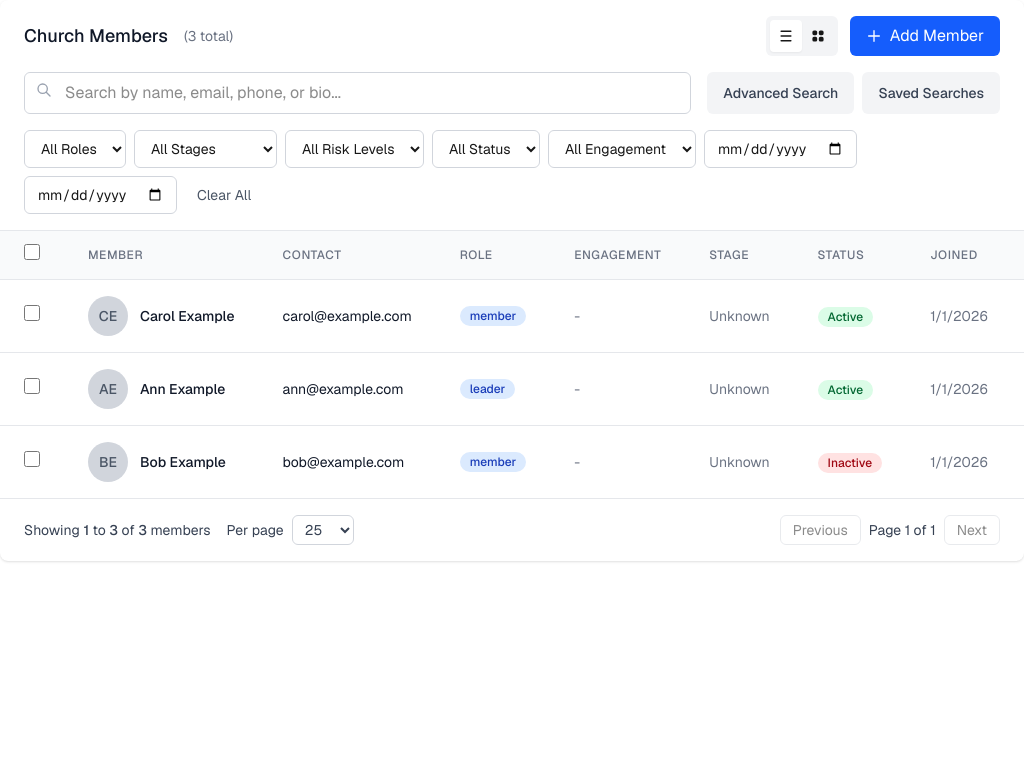
Test: MemberList › shows the staff controls, and Export after selecting a row, to a leader
Expected: the button "Add Member" is shown, left=850, top=16, right=1000, bottom=56
Expected: the button "Export Selected" is not shown
What coordinates should you click on to do the following:
click the checkbox named "Select Carol Example"
I would click on:
 (32, 313)
Its box is left=24, top=305, right=40, bottom=321.
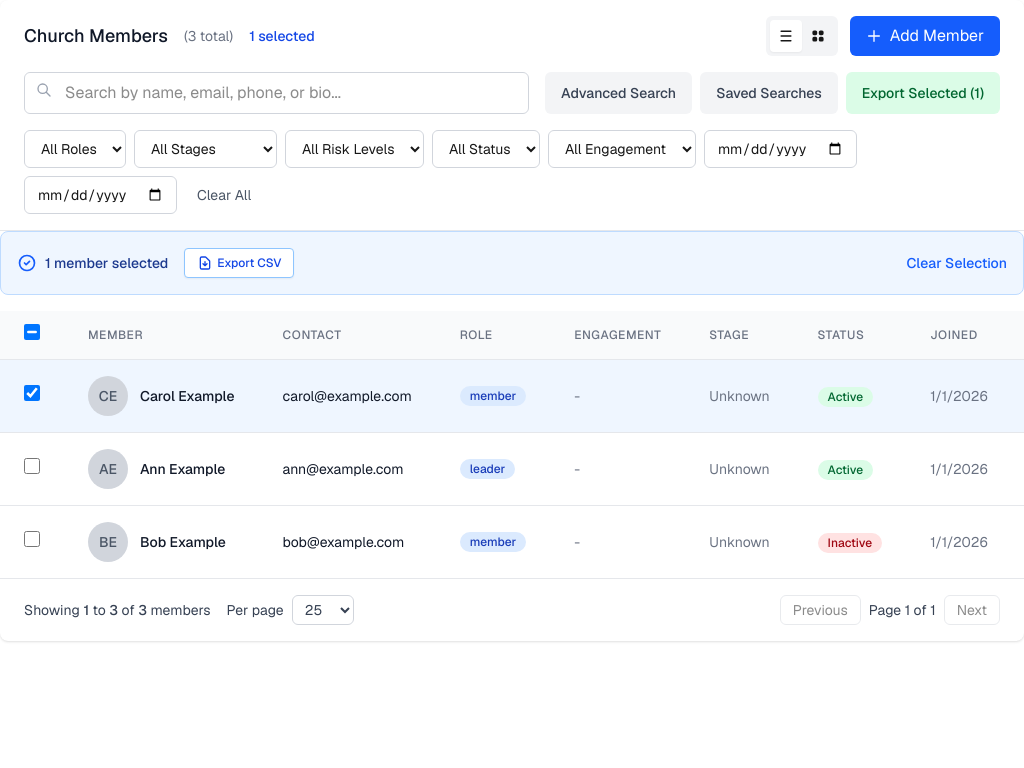
Expected: the button "Export Selected (1)" is shown, left=846, top=72, right=1000, bottom=114
